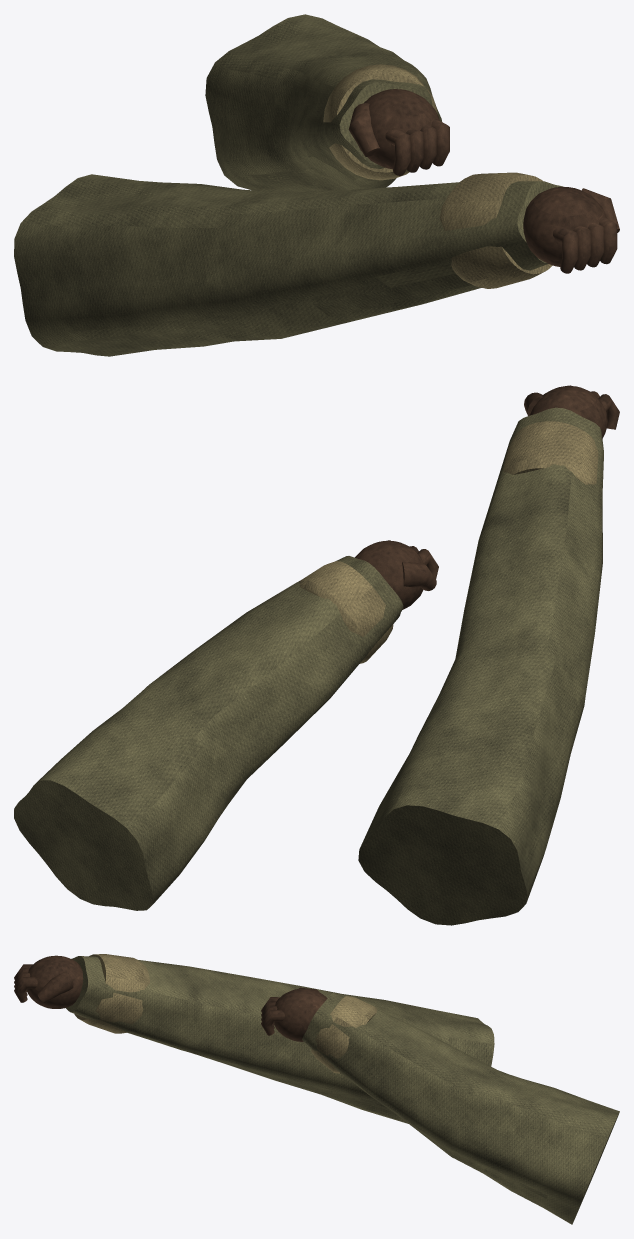
Rendered from FieldHands.fbx.
3 views of the same model, one above another, from view 1: azimuth 30°, elevation 25°; view 2: azimuth 150°, elevation 25°; view 3: azimuth 270°, elevation 25° (orthographic). The views are drawn at different scales.
Parts seen in each view (by area): view 1: FieldGloveL, FieldGloveR; view 2: FieldGloveL, FieldGloveR; view 3: FieldGloveR, FieldGloveL.
Boxes of the visible parts, box(x1,y1,x2,y2) form: FieldGloveL: box(14, 172, 619, 356); FieldGloveR: box(205, 14, 449, 192); FieldGloveL: box(358, 385, 619, 925); FieldGloveR: box(14, 540, 438, 910); FieldGloveR: box(261, 987, 619, 1224); FieldGloveL: box(14, 954, 494, 1123).
Size of the model in its own units: 0.5377 by 0.3745 by 0.9004.
